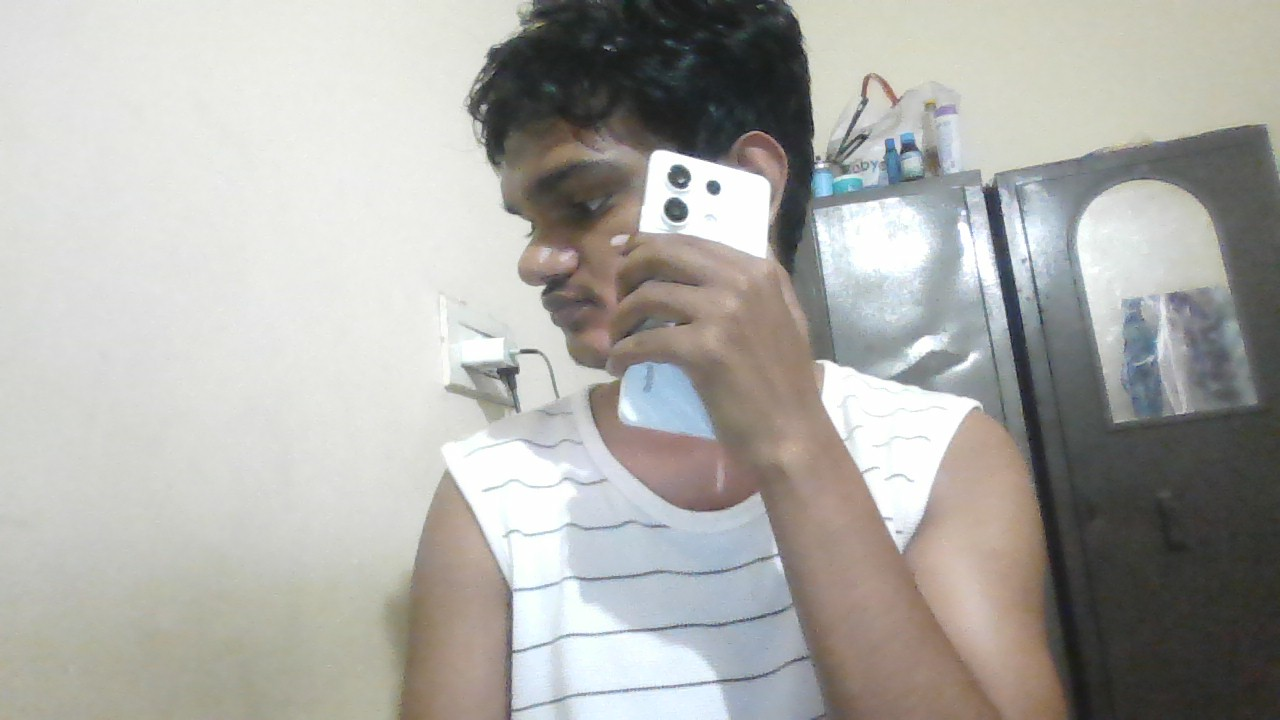phone: (637, 150, 773, 246)
